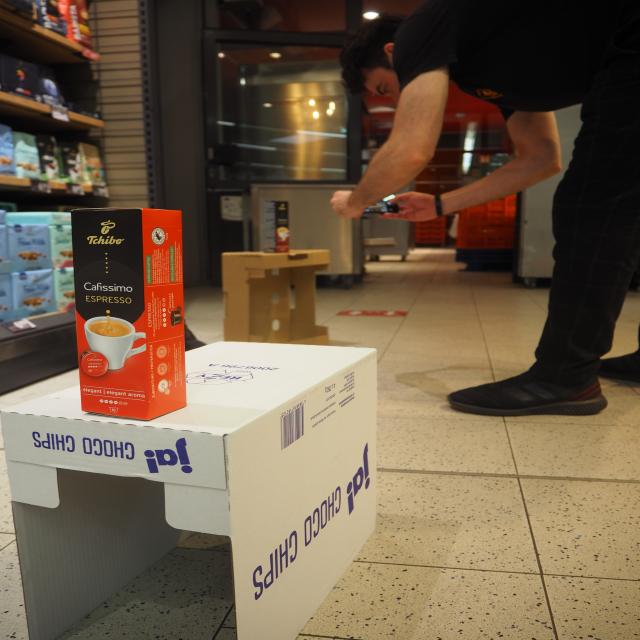Simo Es Elegant: (69, 205, 190, 430)
